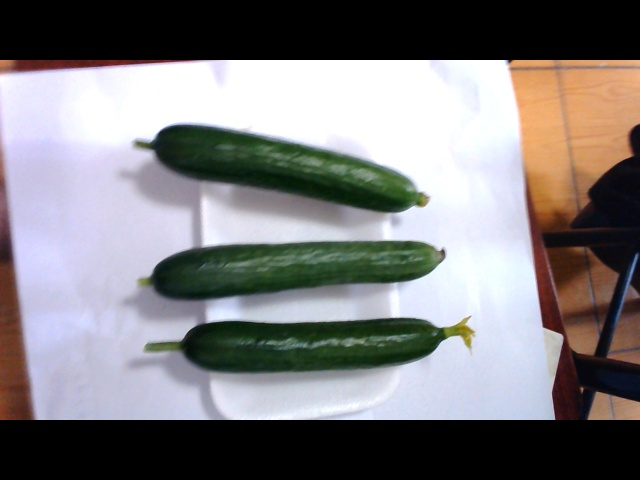cucumber: (142, 112, 446, 216), (146, 301, 472, 368), (140, 229, 450, 296)
